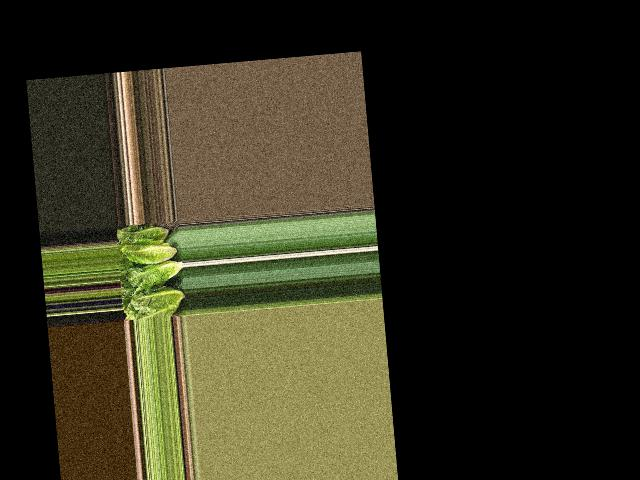lettuce: (116, 226, 167, 245)
